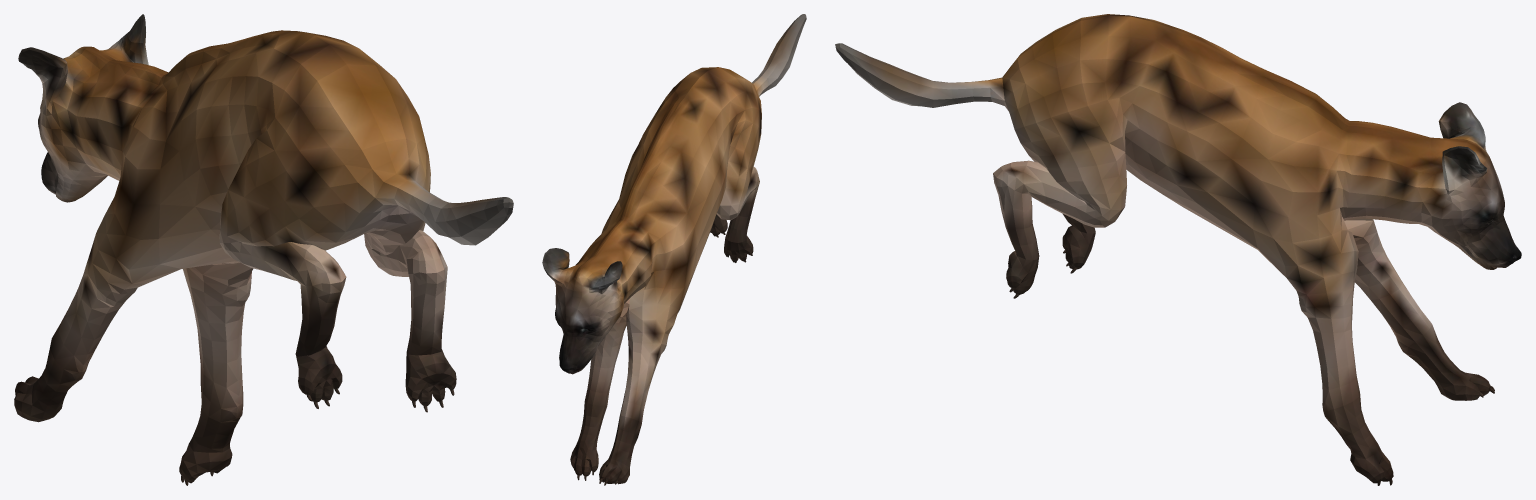
Rendered from hyena.mesh.glb.
The picture shows the model from 3 angles, left to right: view 1: azimuth 30°, elevation 25°; view 2: azimuth 150°, elevation 25°; view 3: azimuth 270°, elevation 25°; orthographic projection. The views are drawn at different scales.
Visible parts, largest first — view 1: root; view 2: root; view 3: root.
Boxes of the visible parts, left/top/right/bottom form: root: left=14, top=14, right=513, bottom=485; root: left=542, top=14, right=806, bottom=485; root: left=835, top=14, right=1521, bottom=485.
Bounding box in the file's own units: 0.1681 × 0.5495 × 0.7533.
1 material, 1 textured.
